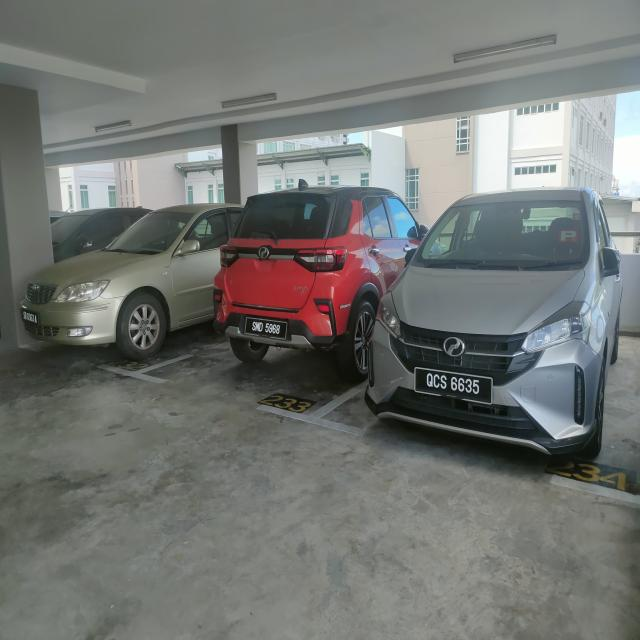PeroduaAtiva: (206, 174, 447, 390)
PeroduaMyvi: (365, 177, 631, 494)
